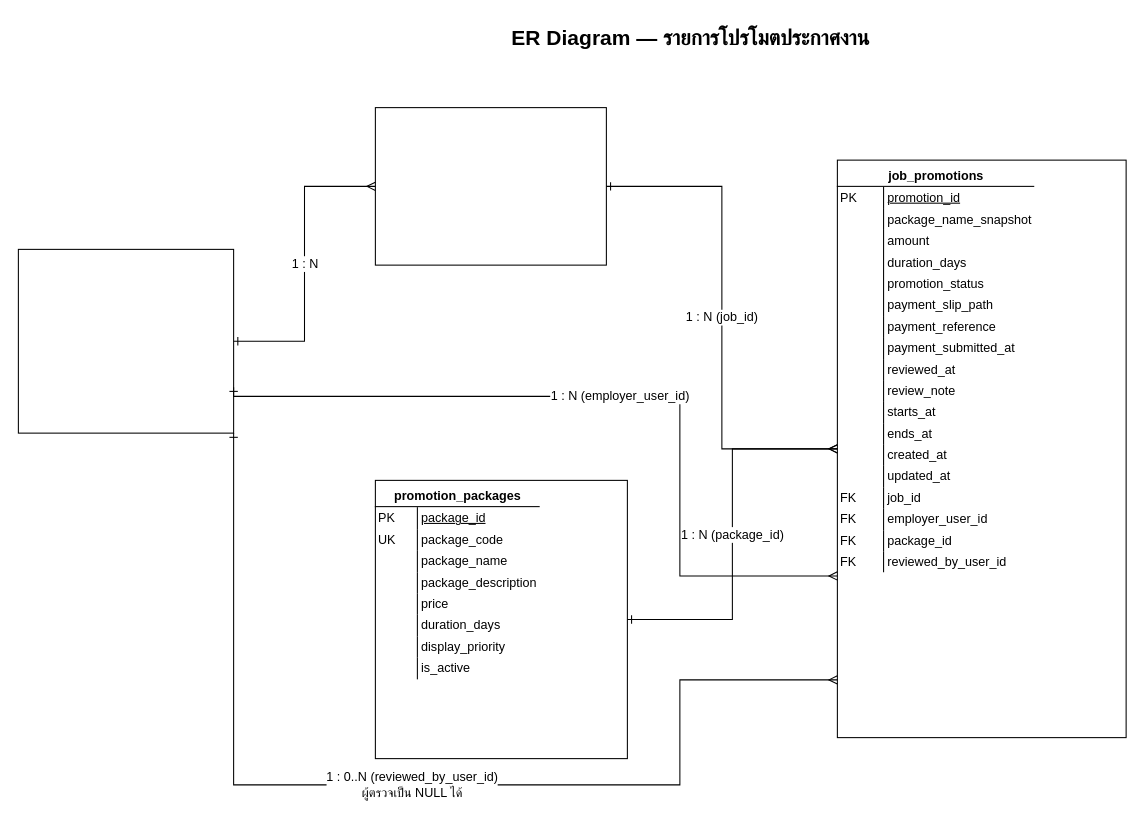
Some shapes in this 1145 by 818 pixel diagram are drawn without their labels. The shapes that lost their labels are listed below. From the top down, each one's centre as x and y in pixels, then its label:
At pixel 490 186: "jobs PK job_id job_title job_status FK employer_user_id".
At pixel 125 340: "users PK user_id first_name last_name email role".
